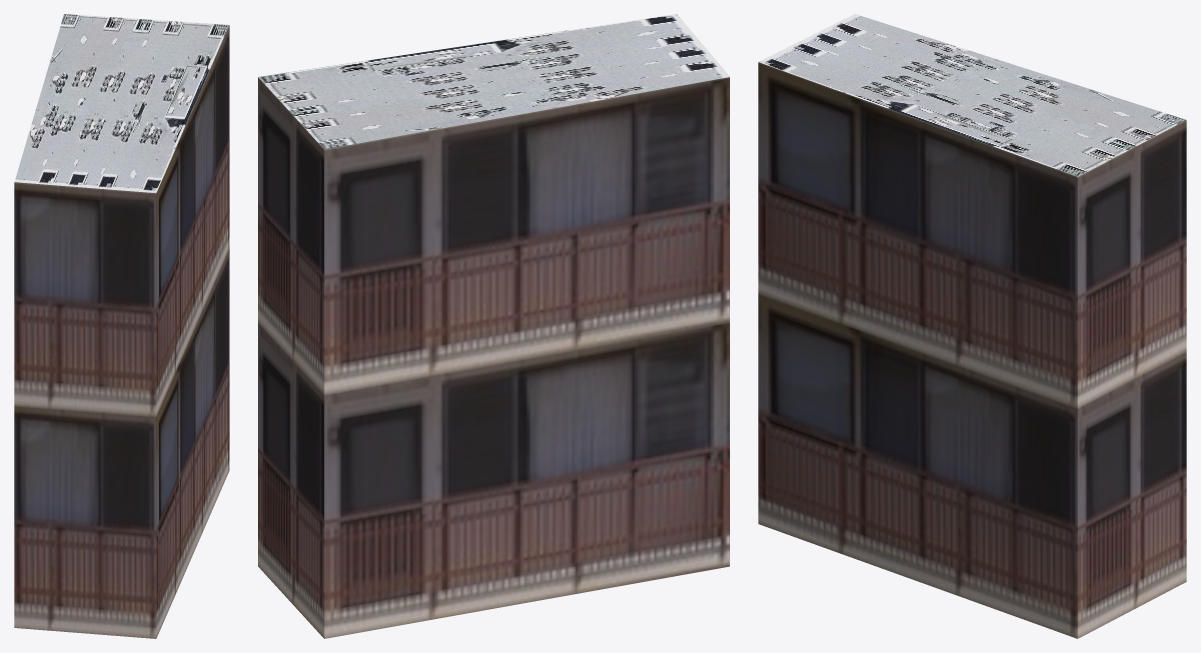
Rendered from ResTex__2097.fbx.
The picture shows the model from 3 angles, left to right: view 1: azimuth 30°, elevation 25°; view 2: azimuth 150°, elevation 25°; view 3: azimuth 270°, elevation 25°; orthographic projection. The views are drawn at different scales.
Visible parts, largest first — view 1: CityEngineMaterial_6_m, CityEngineMaterial_4_m; view 2: CityEngineMaterial_6_m, CityEngineMaterial_4_m; view 3: CityEngineMaterial_6_m, CityEngineMaterial_4_m.
Boxes of the visible parts, box(x1,y1,x2,y2) form: CityEngineMaterial_6_m: box(14, 25, 229, 638); CityEngineMaterial_4_m: box(14, 14, 229, 192); CityEngineMaterial_6_m: box(258, 77, 729, 638); CityEngineMaterial_4_m: box(258, 14, 729, 149); CityEngineMaterial_6_m: box(758, 62, 1186, 638); CityEngineMaterial_4_m: box(758, 14, 1185, 176).
Size of the model in its own units: 4.54 by 6 by 5.04.
2 materials, 2 textured.
